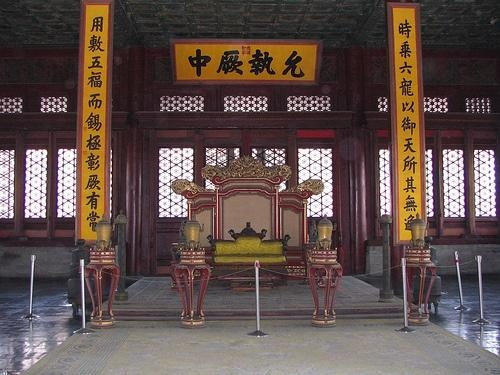sofa: (210, 225, 295, 285)
